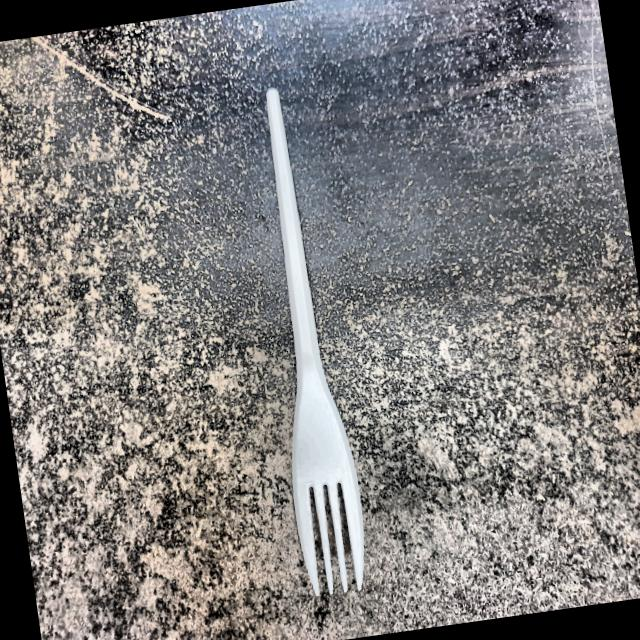plastic utensil: (232, 75, 374, 598)
